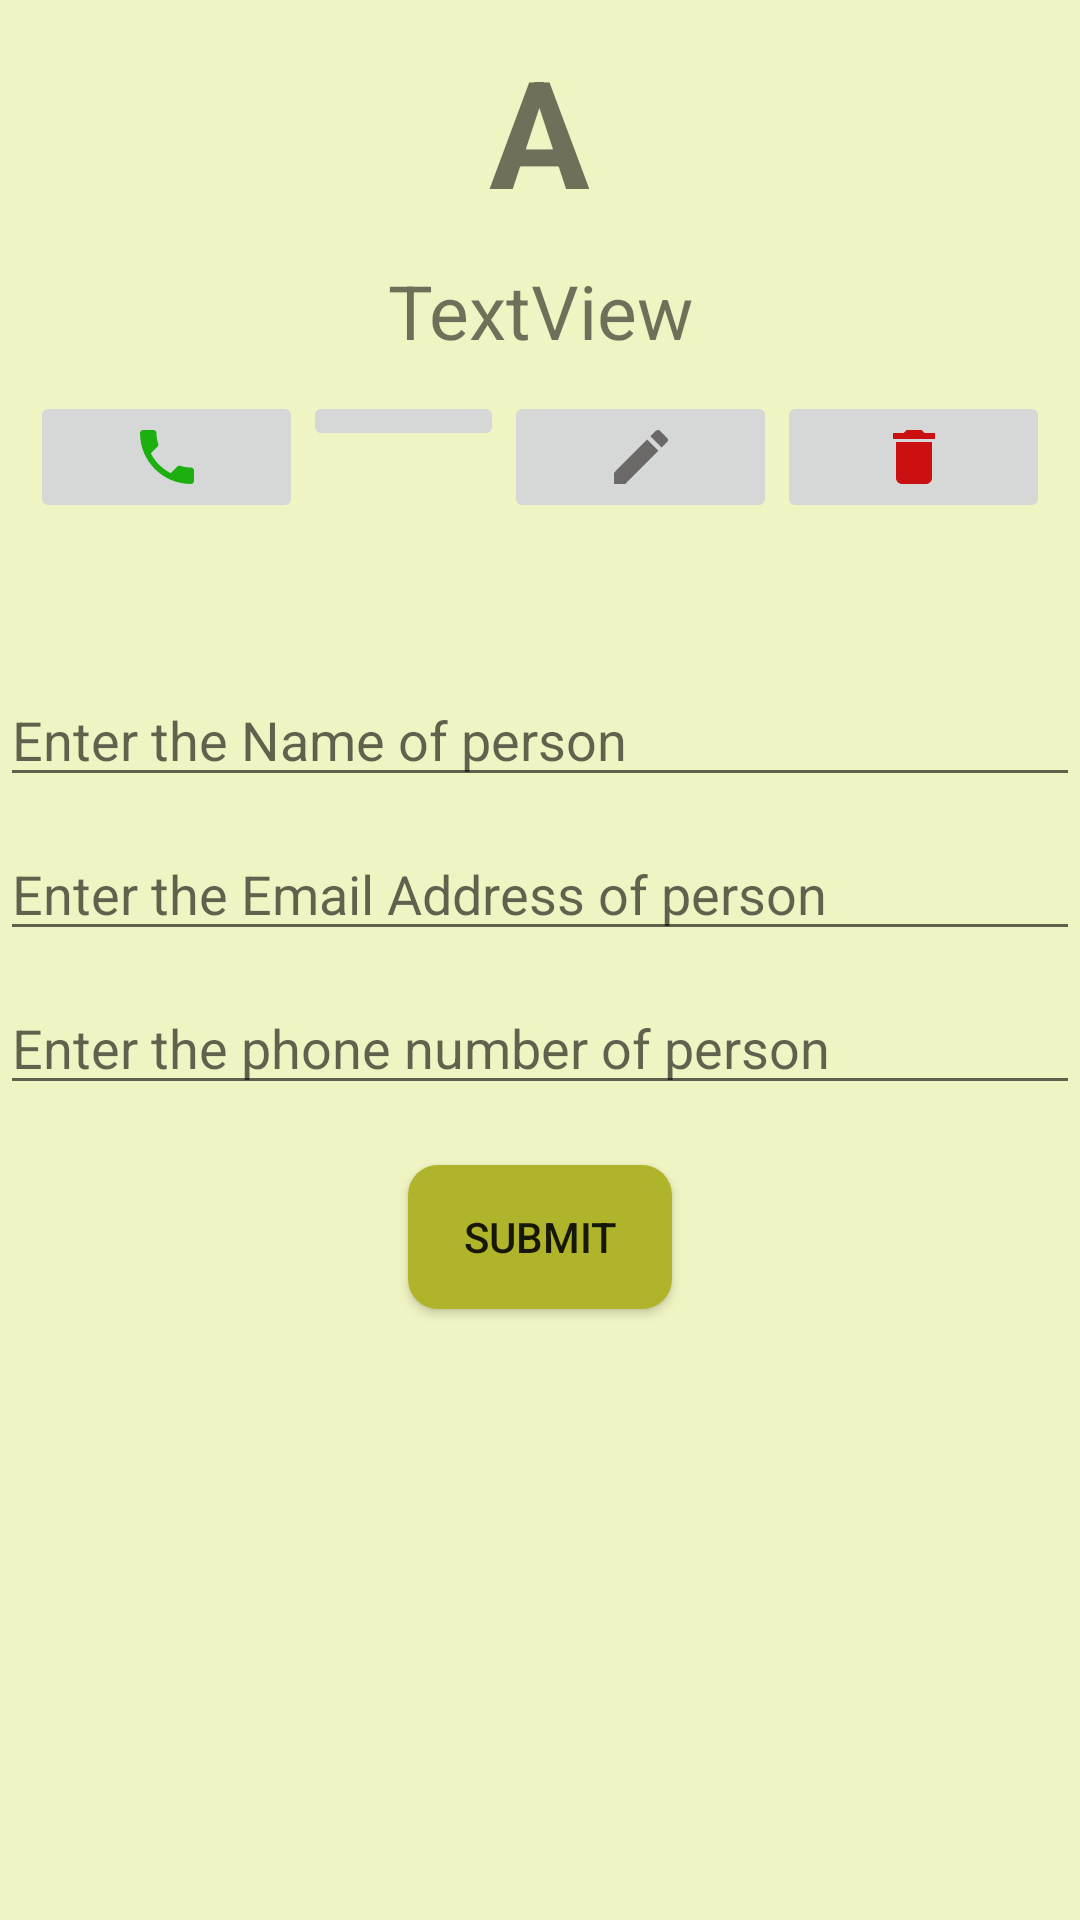

Icon bounding boxes for this 1080 x 1920 phone screenshot, format box=[x1, y1, x2, y2]:
call: box=[42, 409, 291, 505]
delete: box=[789, 409, 1038, 505]
edit: box=[516, 409, 765, 505]
